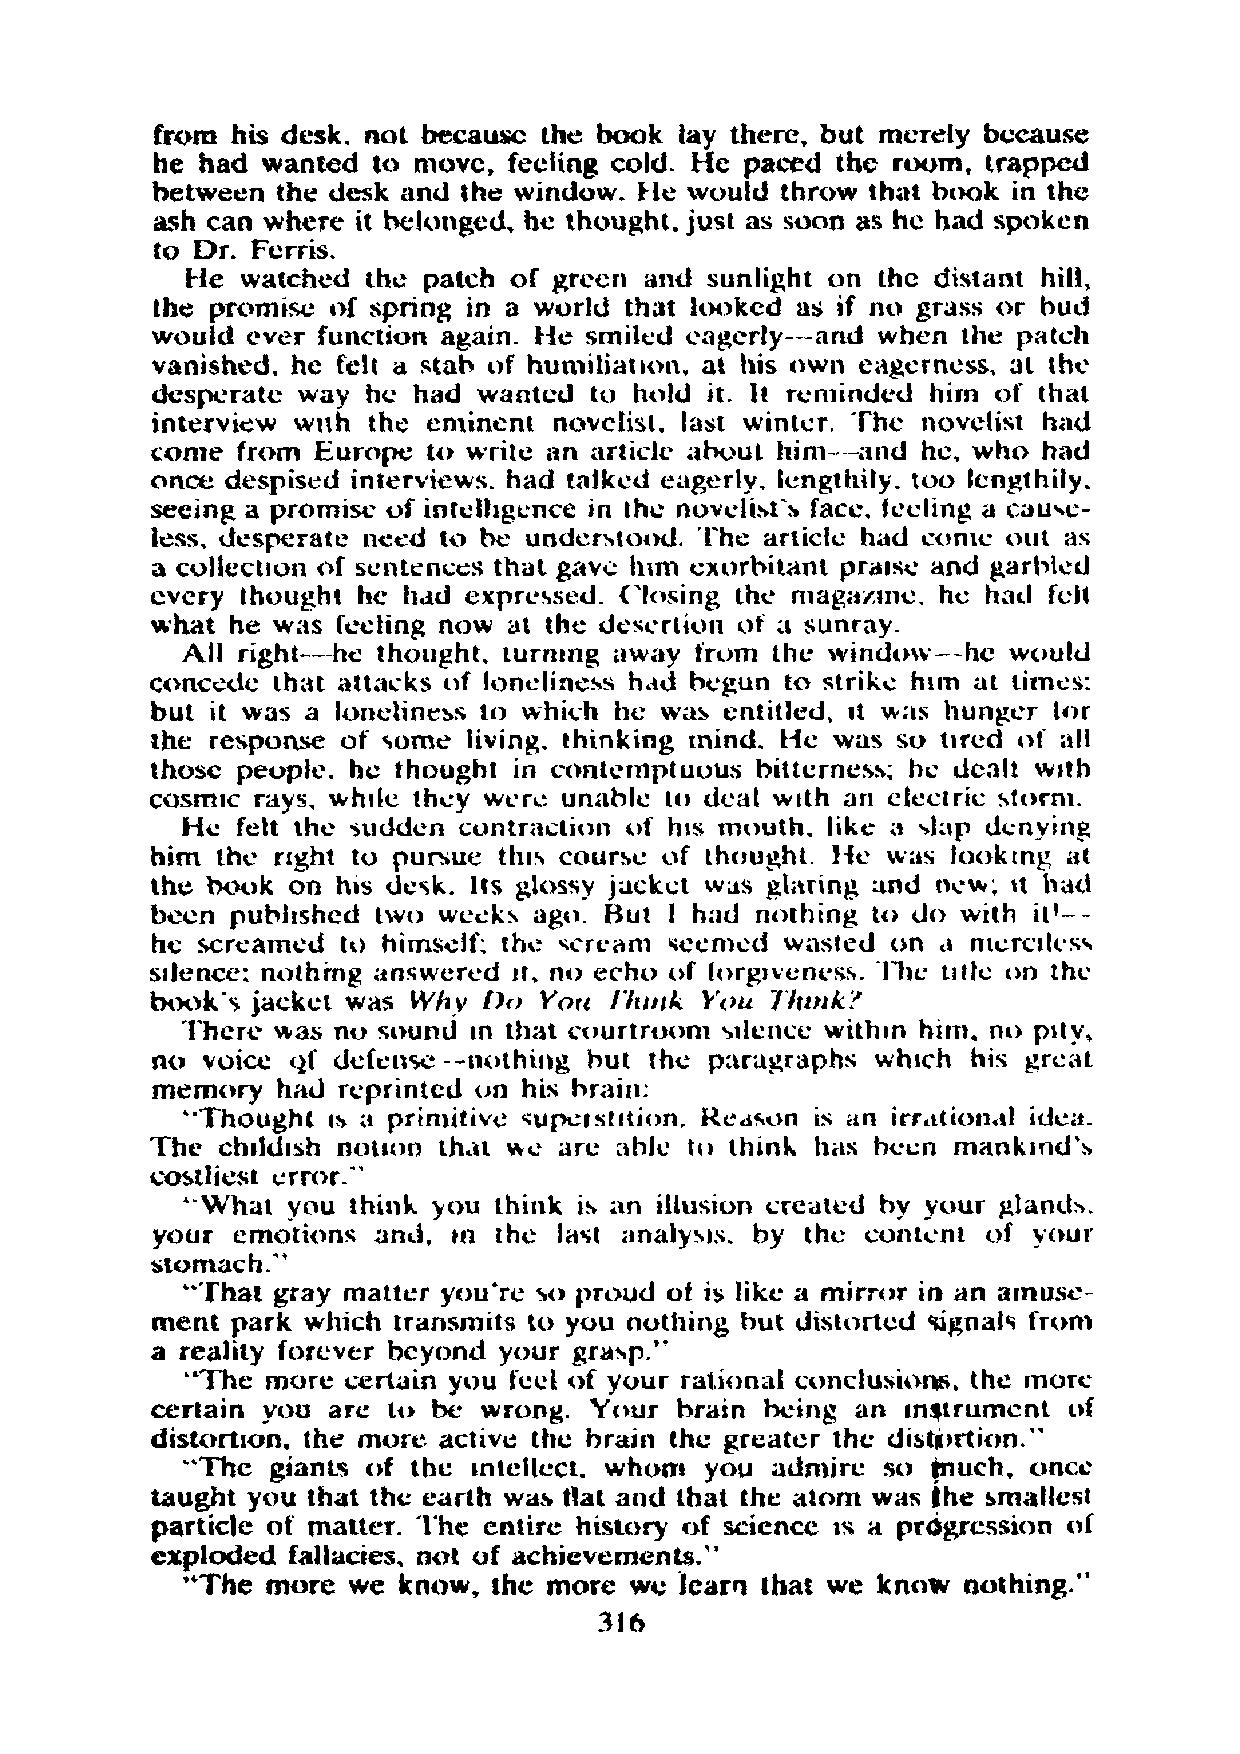content: (142, 119, 1096, 1600)
content_pagenumber: (595, 1608, 645, 1635)
